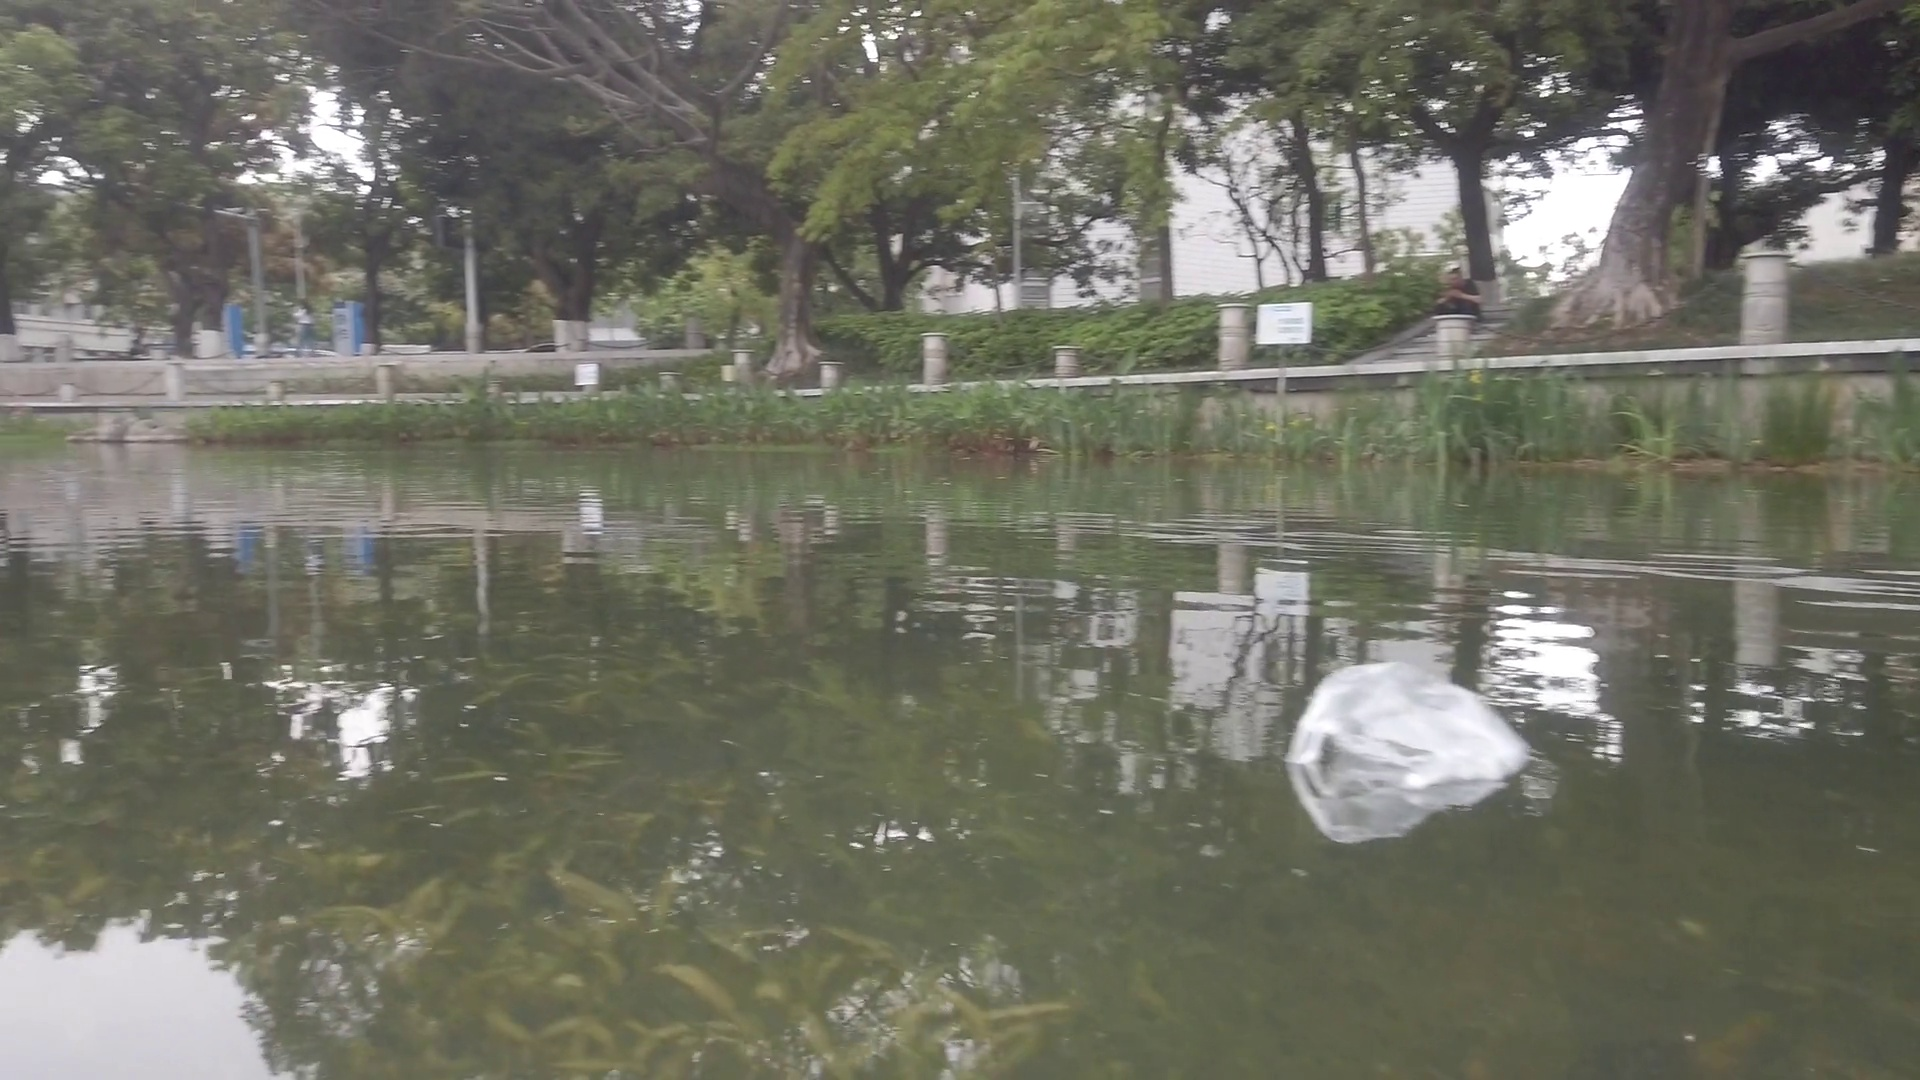plastic: (1284, 665, 1544, 789)
